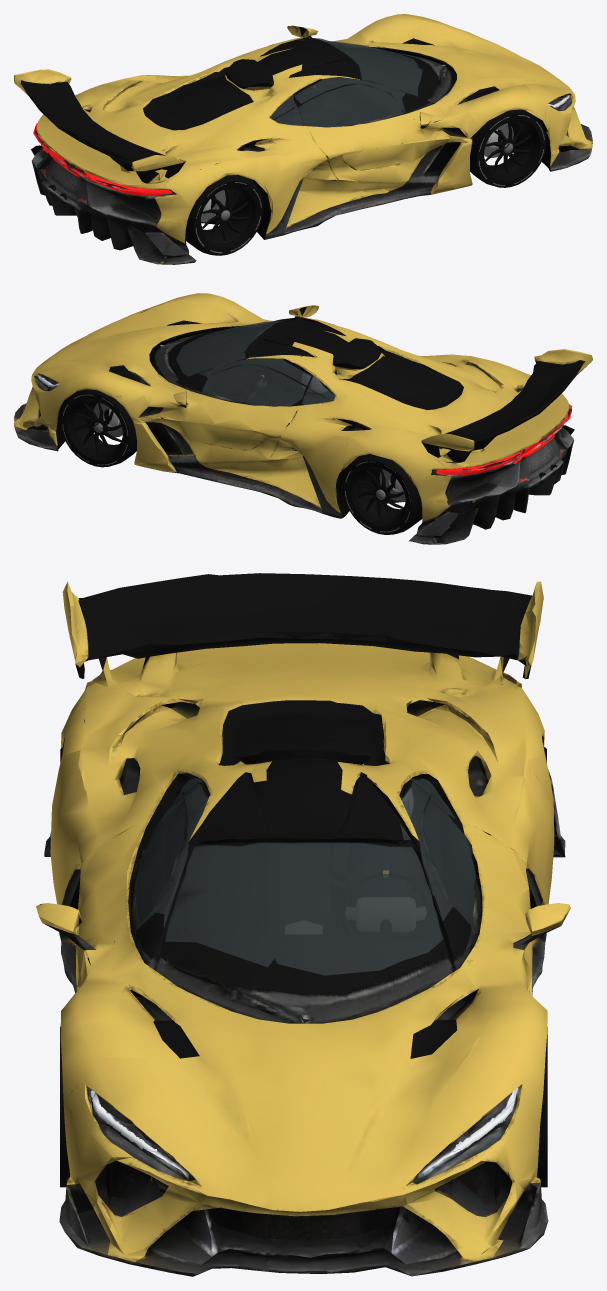
The model's file is rpx_hyperion_drive.glb.
3 renders of one model, top to bottom at view 1: azimuth 30°, elevation 25°; view 2: azimuth 150°, elevation 25°; view 3: azimuth 270°, elevation 25°, orthographic. The views are drawn at different scales.
Parts seen in each view (by area): view 1: body, window_R, interior, tyre_FR, tyre_RR, glass, rim_RR, rim_FR, taillight_lens; view 2: body, window_L, interior, glass, tyre_RL, tyre_FL, rim_RL, rim_FL, driver, taillight_lens; view 3: body, glass, interior, driver, window_L, window_R, steering_wheel, headlight_lens, tyre_FL.
Part boxes in pixels (x1,y1,x2,y2): body: (14, 14, 592, 264); window_R: (270, 77, 405, 127); interior: (319, 48, 417, 121); tyre_FR: (470, 109, 546, 187); tyre_RR: (185, 174, 263, 255); glass: (290, 38, 422, 121); rim_RR: (200, 187, 252, 243); rim_FR: (484, 121, 533, 174); taillight_lens: (33, 123, 172, 195); body: (14, 293, 592, 544); window_L: (203, 354, 335, 406); interior: (183, 328, 288, 401); glass: (176, 318, 311, 391); tyre_RL: (342, 454, 422, 534); tyre_FL: (60, 389, 137, 467); rim_RL: (354, 467, 406, 523); rim_FL: (73, 401, 122, 454); driver: (249, 370, 335, 406); taillight_lens: (436, 404, 572, 474); body: (36, 573, 570, 1276); glass: (163, 780, 454, 975); interior: (114, 805, 442, 975); driver: (328, 788, 443, 933); window_L: (400, 778, 475, 929); window_R: (135, 778, 206, 931); steering_wheel: (340, 870, 431, 933); headlight_lens: (91, 1088, 518, 1151); tyre_FL: (537, 1027, 547, 1187).
Bounding box in the file's own units: 4.7 × 1.11 × 2.15.
Materials: 10 (7 with a texture image).
